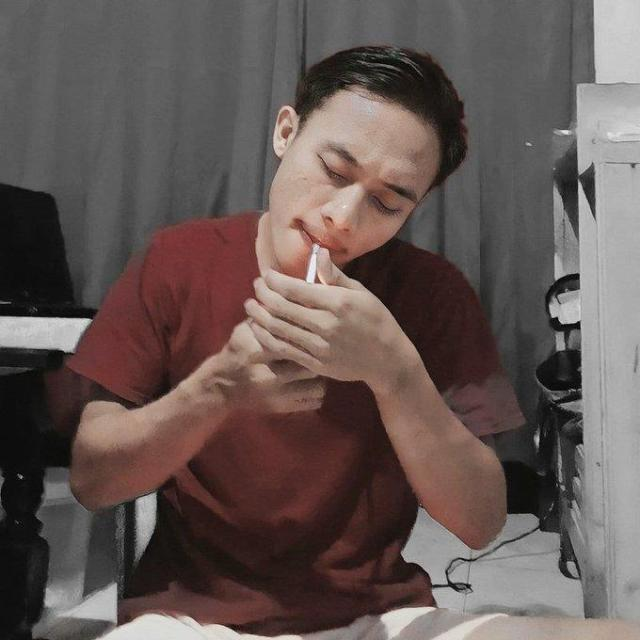rokok: (306, 242, 334, 280)
